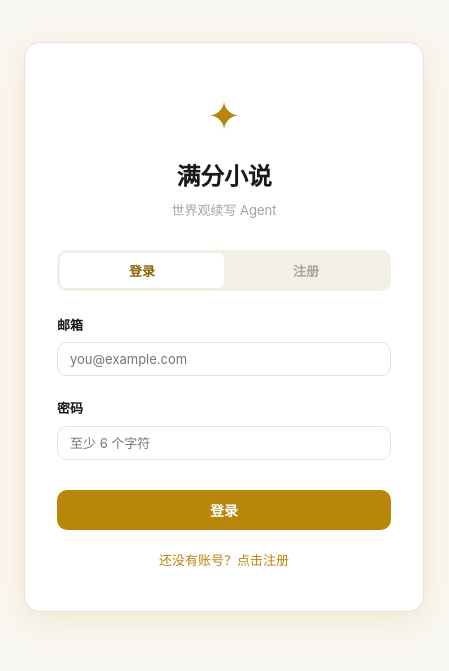
Test: LoginPage › displays error message when login fails
Type "test@example.com" into the field with placeholder "you@example.com" at (224, 359), box [57,342,391,376]
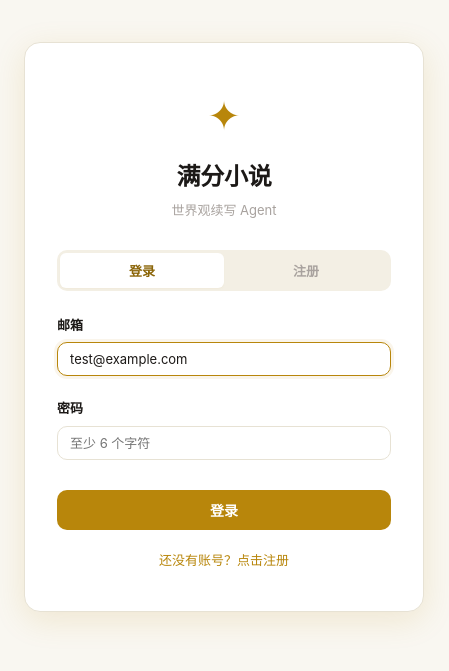
Type "wrongpass" into the password field with placeholder "至少 6 个字符" at (224, 443), box [57,426,391,460]
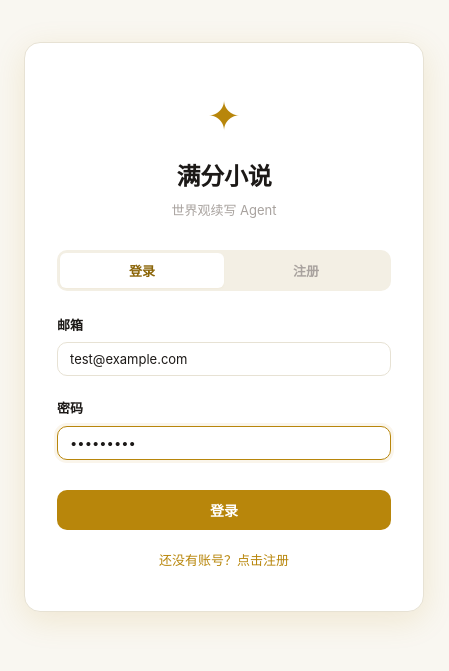
Click the button with class "login-submit" at (224, 510), box [57,490,391,530]
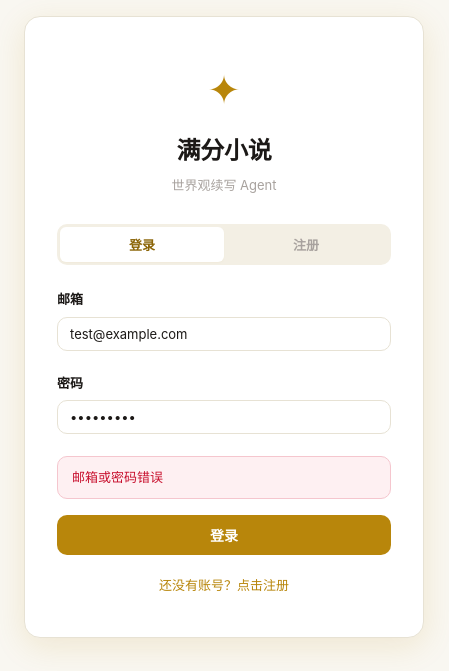
Result: the text "邮箱或密码错误" is shown at [57,456,391,499]
